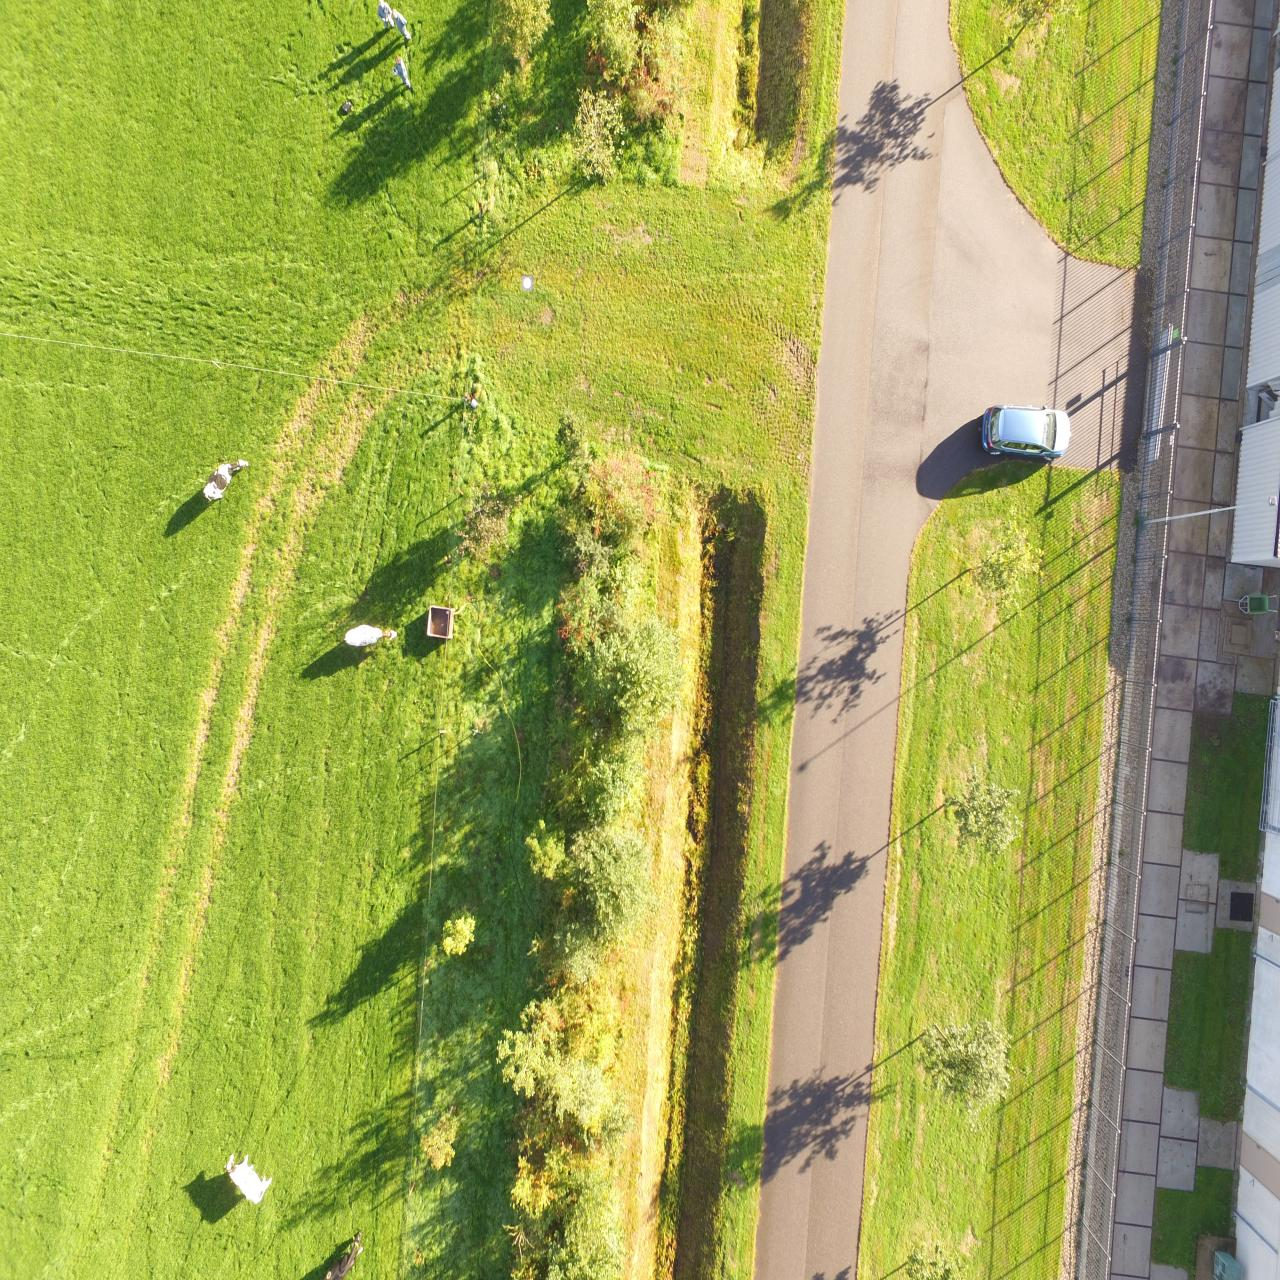cow: (223, 1151, 272, 1204), (202, 456, 247, 501), (342, 624, 397, 646)
